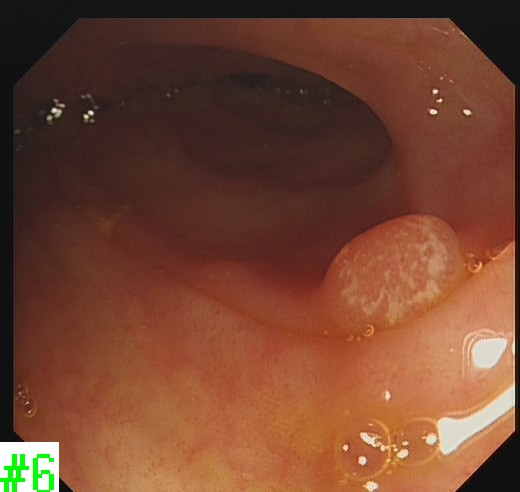adenoma: (318, 210, 466, 339)
